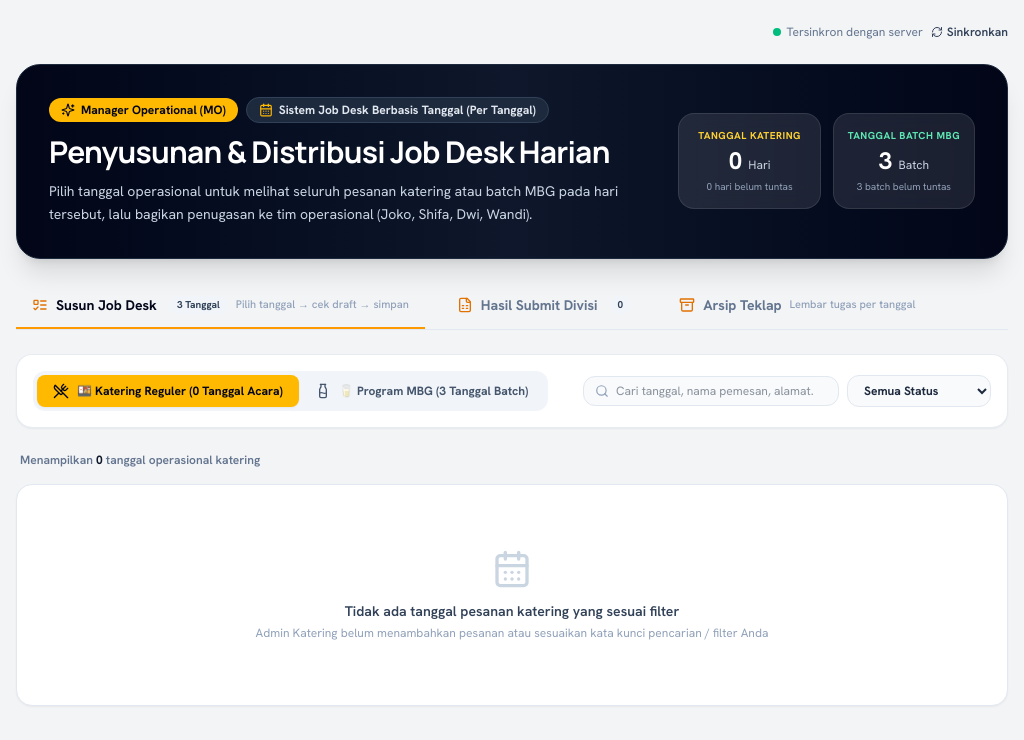
MO job desk: PM rows entered by Admin MBG › finds a batch by the day Admin MBG entered it, as Arsip PM does
Click the button "🥛 Program MBG (3 Tanggal Batch)" at point(422, 391), box [299,375,544,407]
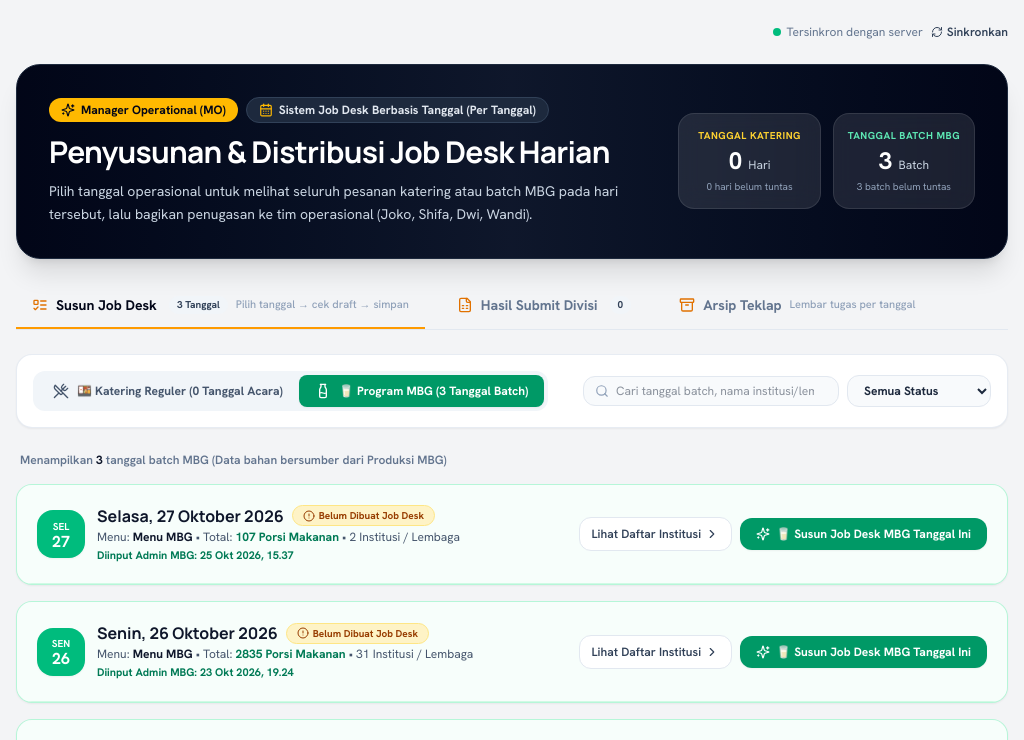
Type "25 okt" into the search field with placeholder "Cari tanggal batch, nama institusi/lembaga..." at point(711, 391), box [583,376,839,406]
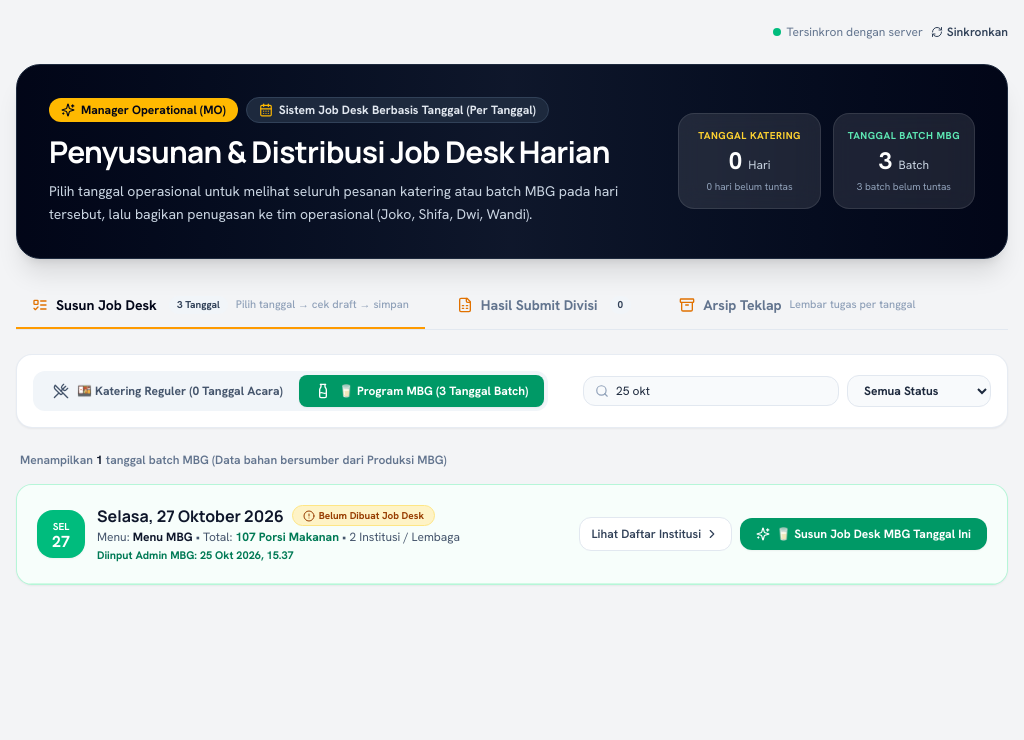
Now the heading "Selasa, 27 Oktober 2026" is shown, box [97,505,284,527]
Now the heading "Senin, 26 Oktober 2026" is gone
